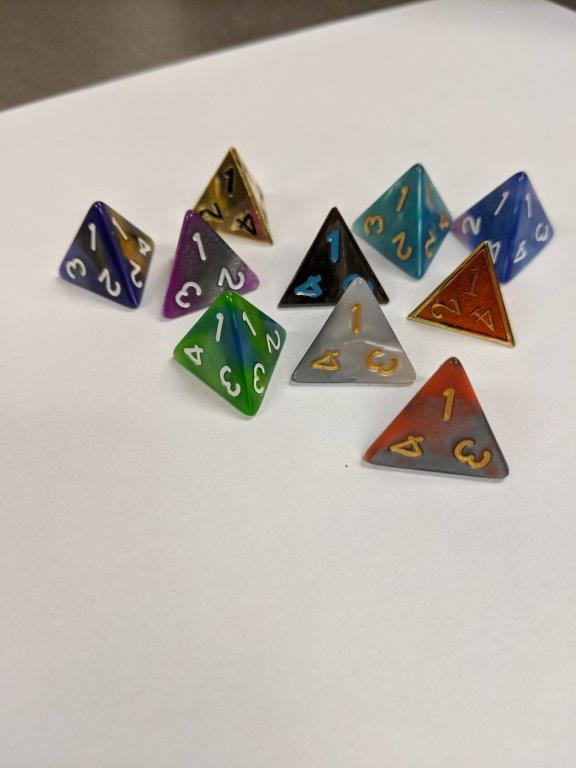d4-1: (357, 355, 518, 490), (171, 291, 283, 422), (291, 284, 416, 387), (452, 171, 560, 289), (352, 157, 452, 282), (408, 242, 518, 353), (278, 198, 392, 304), (58, 195, 156, 310), (161, 208, 260, 312), (195, 145, 272, 248)
